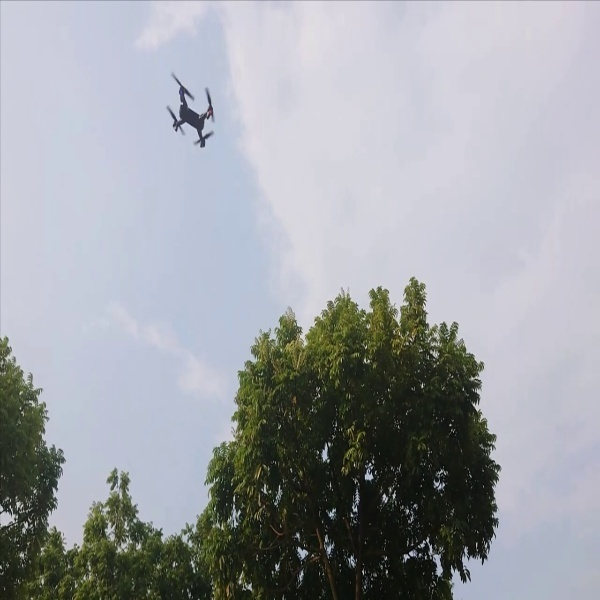drone: (150, 66, 232, 155)
